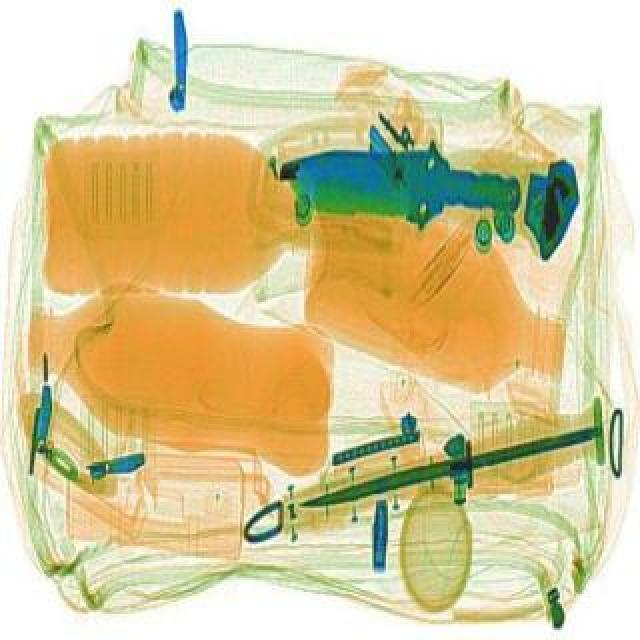knife: (288, 398, 618, 538), (276, 124, 524, 236)
